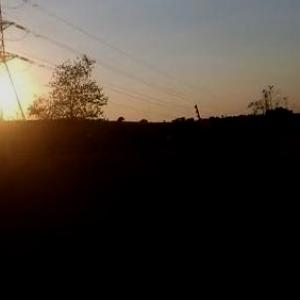follow: (228, 119, 299, 299)
